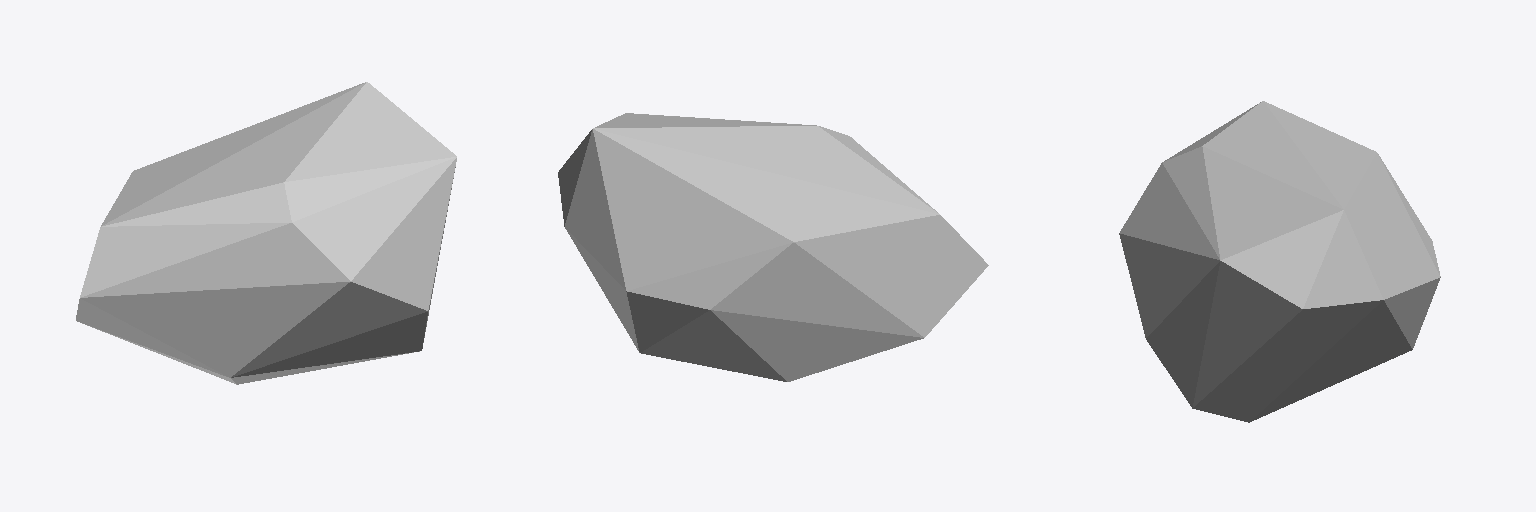
Rendered from rock_shard.obj.
3 views of the same model, side by side, from view 1: azimuth 30°, elevation 25°; view 2: azimuth 150°, elevation 25°; view 3: azimuth 270°, elevation 25° (orthographic).
Visible parts, largest first — view 1: Cube; view 2: Cube; view 3: Cube.
Part boxes in pixels (x1,y1,x2,y2): Cube: (76,82,456,384); Cube: (558,113,988,381); Cube: (1119,101,1440,422).
Bounding box in the file's own units: 2.12 × 1.18 × 1.49.